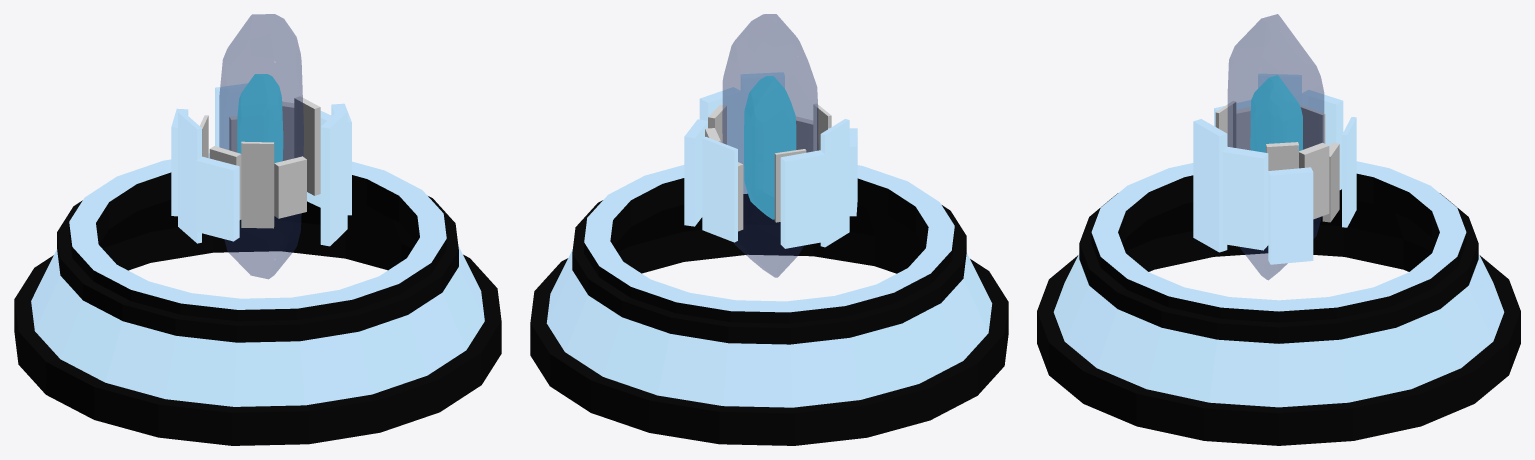
Rendered from crystal_base.glb.
The picture shows the model from 3 angles, left to right: view 1: azimuth 30°, elevation 25°; view 2: azimuth 150°, elevation 25°; view 3: azimuth 270°, elevation 25°; orthographic projection.
Visible parts, largest first — view 1: crystarBase; view 2: crystarBase; view 3: crystarBase.
Boxes of the visible parts, x1,y1,x2,y2 form: crystarBase: (14, 14, 501, 445); crystarBase: (530, 14, 1008, 445); crystarBase: (1037, 14, 1520, 445).
Bounding box in the file's own units: 4.62 × 3.44 × 4.62.
5 materials, 4 textured.
